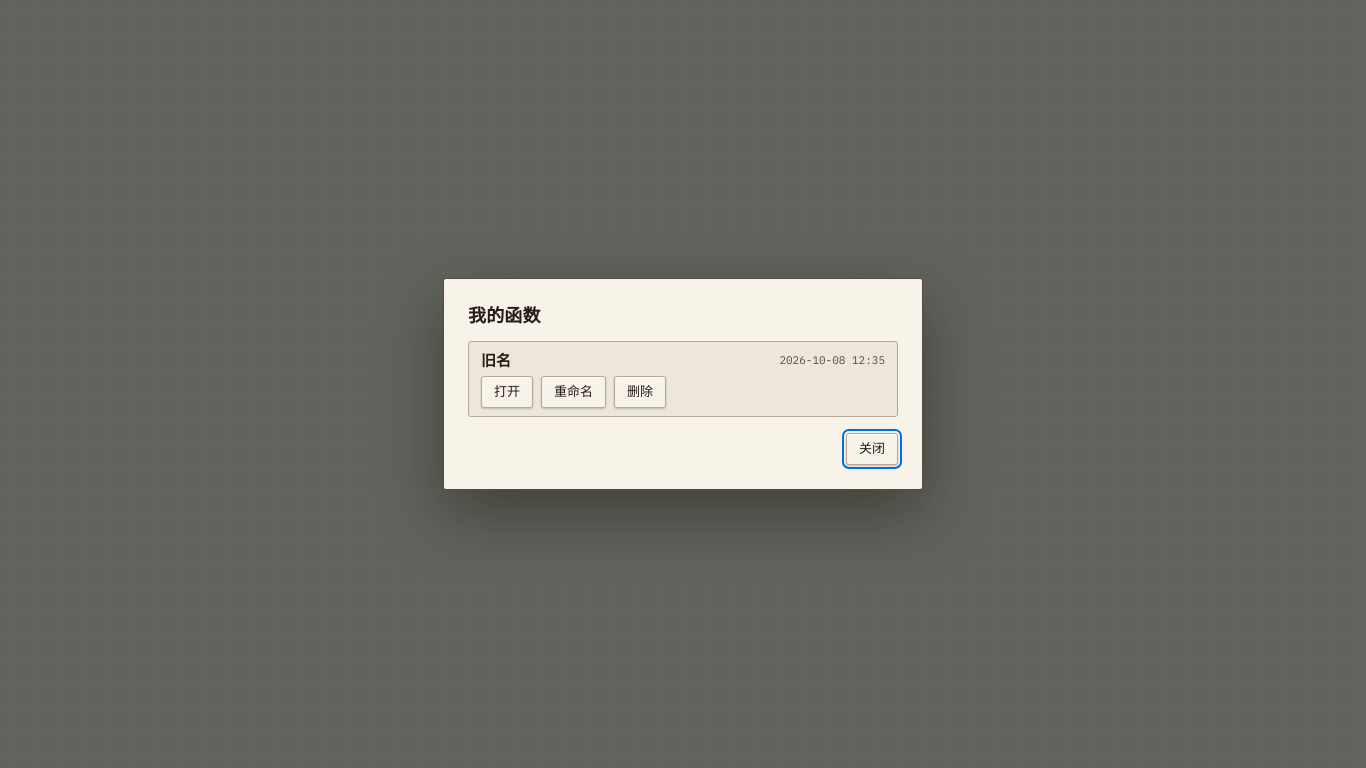
Test case: Library › renames and deletes with confirmation
The image size is (1366, 768).
Click the button named "重命名旧名" at [574, 392], box [541,376,606,408]
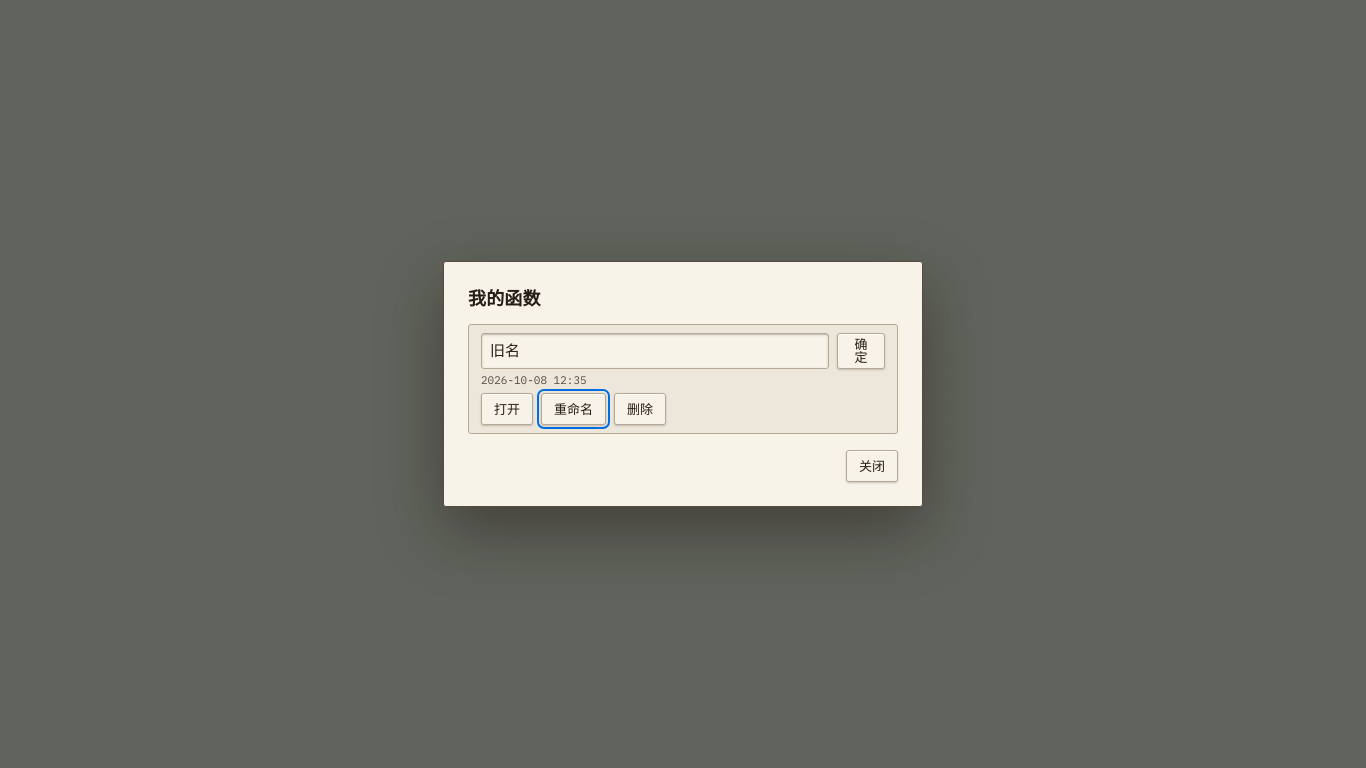
Replace the text in the field named "旧名的新名称" with "新名" at [655, 351], box [481,333,829,369]
Then press Enter
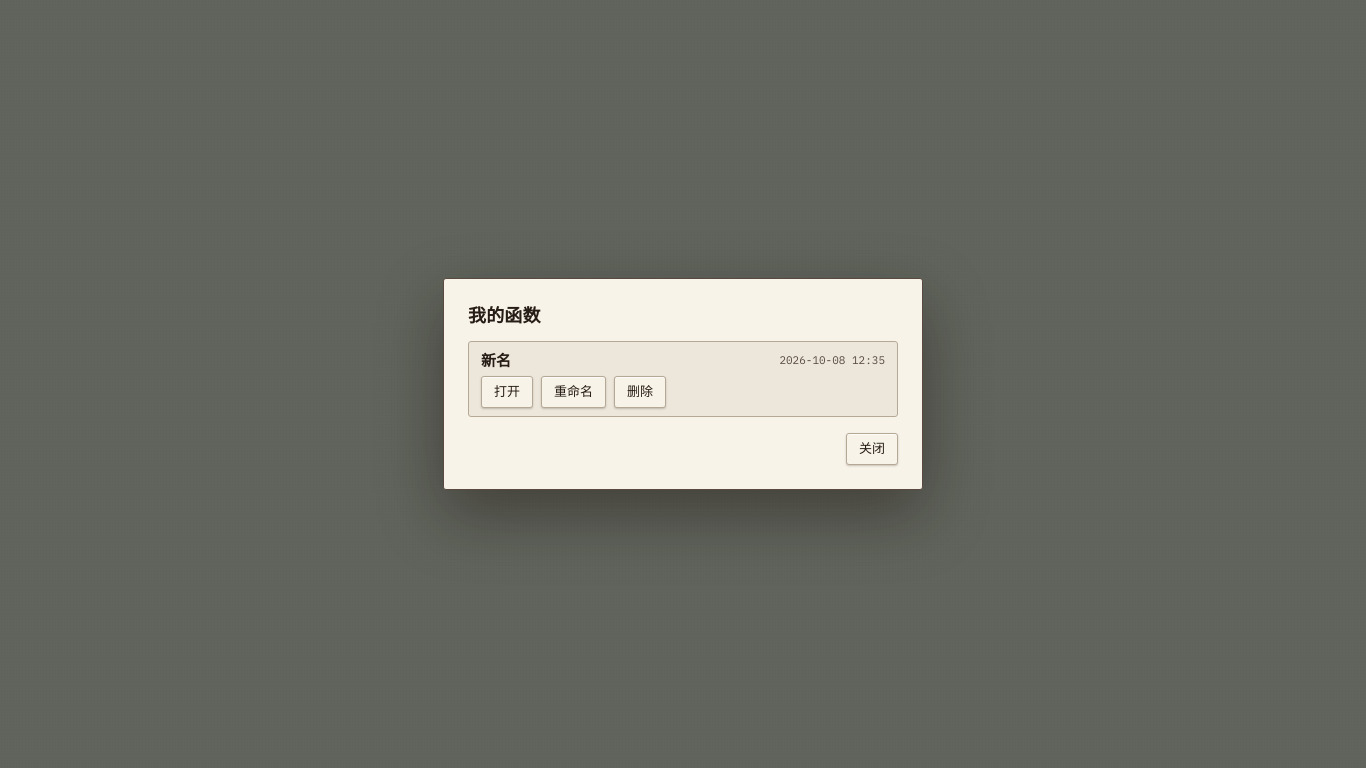
Check: the button named "打开新名" is shown, box [481,376,533,408]
Click the button named "删除新名" at [640, 392], box [614,376,666,408]
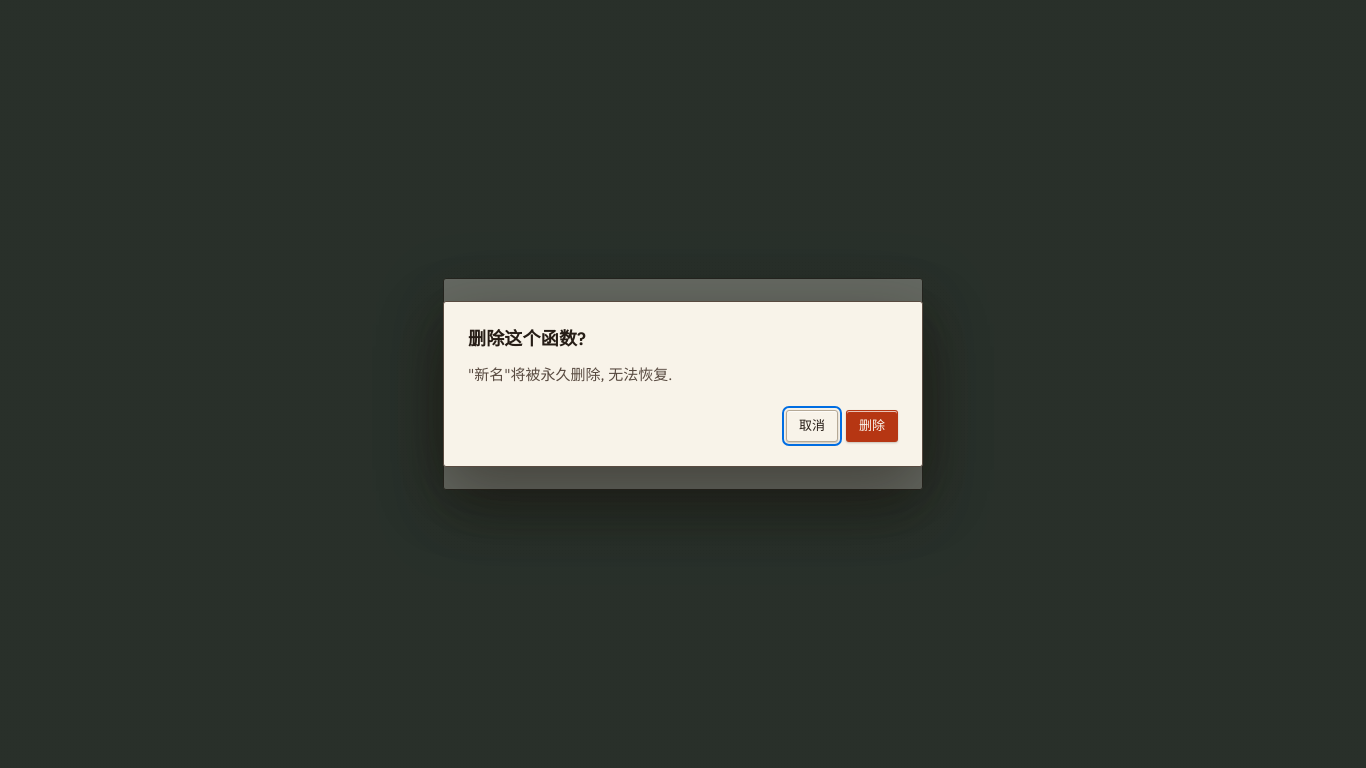
Click the button "删除" at [872, 426], box [846,410,898,442]
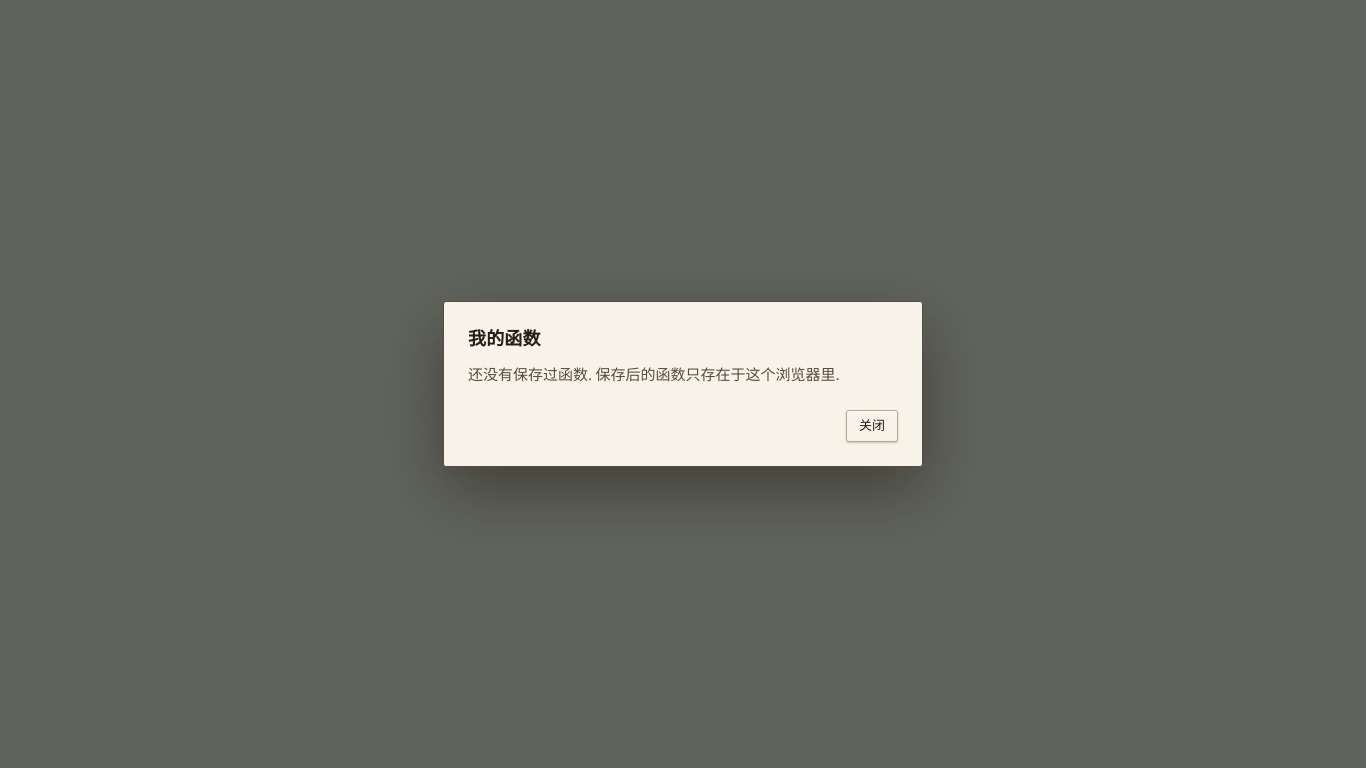
Check: the text "还没有保存过函数. 保存后的函数只存在于这个浏览器里." is shown, box [468,364,898,386]
